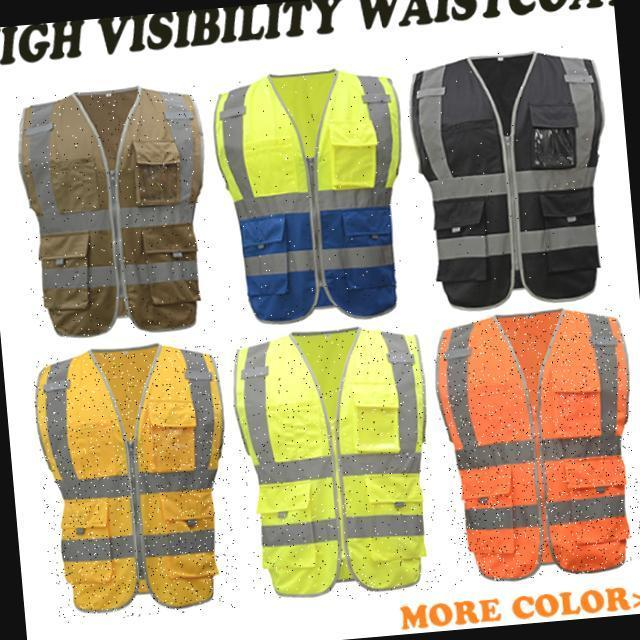vest: (228, 322, 443, 607), (31, 343, 240, 623), (431, 306, 640, 584), (208, 63, 408, 328)
